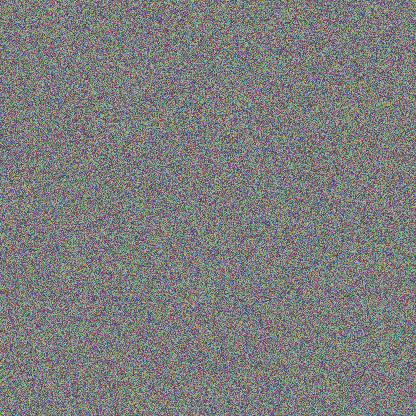empty: (112, 197, 187, 276), (115, 304, 183, 353)
occupied: (190, 164, 241, 224)
